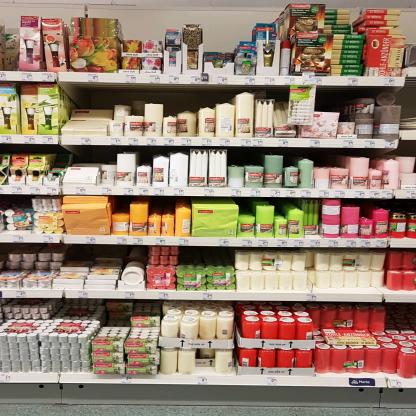Void: (69, 83, 233, 102), (66, 249, 128, 265), (181, 249, 233, 266), (69, 147, 115, 163), (318, 88, 348, 112), (106, 301, 128, 329), (387, 306, 409, 330), (230, 147, 262, 162), (388, 199, 414, 215), (4, 195, 29, 210), (317, 149, 340, 165)
